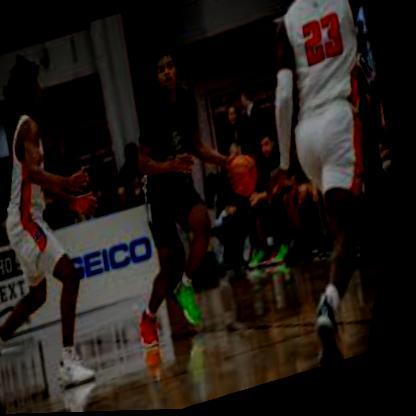basketball: (224, 149, 274, 203)
